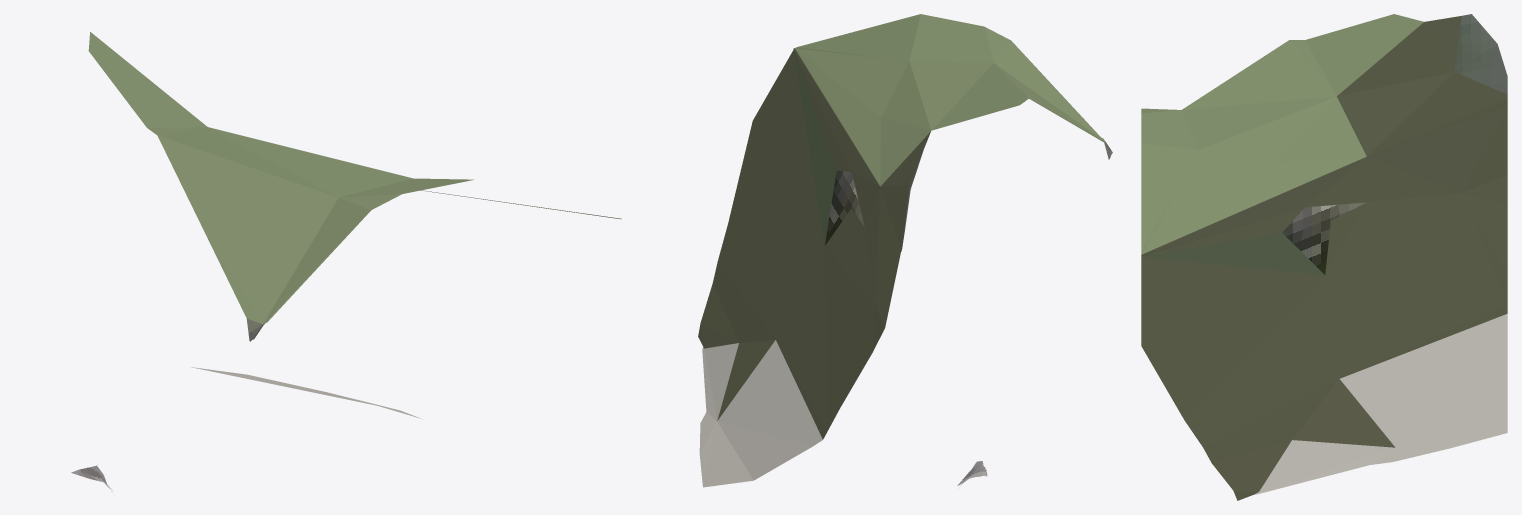
The picture shows the model from 3 angles, left to right: view 1: azimuth 30°, elevation 25°; view 2: azimuth 150°, elevation 25°; view 3: azimuth 270°, elevation 25°; orthographic projection. The views are drawn at different scales.
Bounding box in the file's own units: 0.4915 × 0.4915 × 0.4915.
Materials: 1 (1 with a texture image).
